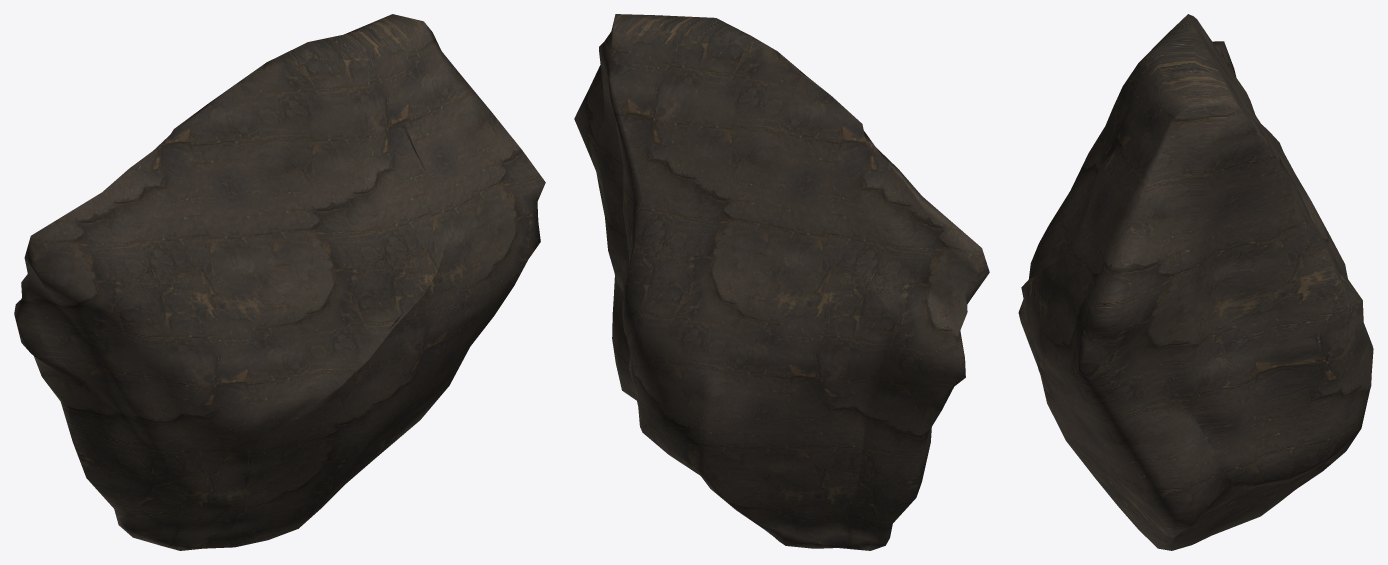
File: cliff_buttress_b_lod1.gltf
3 renders of one model, left to right at view 1: azimuth 30°, elevation 25°; view 2: azimuth 150°, elevation 25°; view 3: azimuth 270°, elevation 25°, orthographic. The views are drawn at different scales.
Visible parts, largest first — view 1: cliff_buttress_b_LOD1; view 2: cliff_buttress_b_LOD1; view 3: cliff_buttress_b_LOD1.
Part boxes in pixels (<box>): cliff_buttress_b_LOD1: <box>14,14,545,550</box>; cliff_buttress_b_LOD1: <box>574,14,989,550</box>; cliff_buttress_b_LOD1: <box>1018,14,1373,550</box>.
Bounding box in the file's own units: 20.24 × 20 × 11.9.
Materials: 1 (1 with a texture image).
